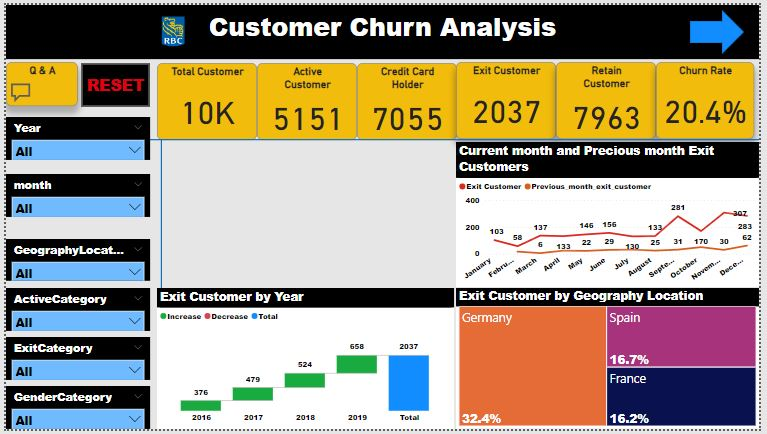

The dashboard page shown, as its layout file describes it:
{"tool":"powerbi","page":{"name":"KPI's","canvas":[1280,720],"ordinal":0},"visuals":[{"type":"card","title":"Total Customer","fields":{"Values":["Calculation.Total Customer"]},"box":[256.7,98.6,170,130.9],"z":0},{"type":"card","title":"Active Customer","fields":{"Values":["Calculation.Active Customer"]},"box":[426.7,98.6,170,130.9],"z":1000},{"type":"card","title":"Credit Card Holder","fields":{"Values":["Calculation.Credit Card Hoders"]},"box":[596.7,98.6,170,130.9],"z":2000},{"type":"card","title":"Exit Customer","fields":{"Values":["Calculation.Exit Customer"]},"box":[764.9,96.9,170,130.9],"z":3000},{"type":"card","title":"Retain Customer","fields":{"Values":["Calculation.Retain Customer"]},"box":[934.9,96.9,170,130.9],"z":4000},{"type":"card","title":"Churn Rate","fields":{"Values":["Calculation.Churn Rate"]},"box":[1104.9,96.9,166.6,130.9],"z":5000},{"type":"textbox","box":[0,0,1280,91.8],"z":6000},{"type":"image","box":[226.1,6.8,115.6,76.5],"z":7000},{"type":"shape","box":[0,207,1280,43.1],"z":8000},{"type":"shape","box":[256.7,230.2,14.9,490.1],"z":9000},{"type":"slicer","fields":{"Values":["Date_Table.Year"]},"box":[0,190.4,244.8,73.1],"z":10000},{"type":"slicer","fields":{"Values":["Date_Table.month"]},"box":[0,287.3,244.8,73.1],"z":11000},{"type":"slicer","fields":{"Values":["Geography.GeographyLocation"]},"box":[0,397.8,244.8,71.4],"z":12000},{"type":"slicer","fields":{"Values":["ActiveCustomer.ActiveCategory"]},"box":[0,481.1,244.8,73.1],"z":13000},{"type":"slicer","fields":{"Values":["ExitCustomer.ExitCategory"]},"box":[0,564.4,244.8,73.1],"z":14000},{"type":"slicer","fields":{"Values":["Gender.GenderCategory"]},"box":[0,647.6,244.8,73.1],"z":15000},{"type":"clusteredColumnChart","fields":{"Category":["Date_Table.Year","Date_Table.Month_name"],"Y":["Calculation.Active Customer","Calculation.Inactive Customer"]},"box":[256.7,232.9,503.2,243.1],"z":16000},{"type":"waterfallChart","fields":{"Y":["Calculation.Exit Customer"],"Category":["Date_Table.Date.Variation.Date Hierarchy.Year"]},"box":[256.7,481.1,504.9,239.7],"z":17000},{"type":"shape","box":[1162.7,8.5,91.8,74.8],"z":18000},{"type":"actionButton","title":"Q & A","box":[0,96.9,122.4,74.8],"z":19000},{"type":"actionButton","title":"RESET","box":[127.5,98.6,117.3,74.8],"z":20000},{"type":"treemap","title":"Exit Customer by Geography Location","fields":{"Values":["Calculation.Churn Rate"],"Group":["Geography.GeographyLocation"]},"box":[764.9,479.4,515.1,241.4],"z":21000},{"type":"lineChart","title":"Current month and Precious month Exit Customers","fields":{"Y":["Calculation.Exit Customer","Calculation.Previous_month_exit_customer"],"Category":["Date_Table.Date.Variation.Date Hierarchy.Month"]},"box":[764.9,232.9,515.1,248.2],"z":22000}]}

Visuals, with their boxes in screenshot pixels (x1, y1, x2, y2), scaled from the page's 1280x720 canvas onto the 767x434 screenshot:
"Total Customer" card: [left=154, top=59, right=256, bottom=138]
"Active Customer" card: [left=256, top=59, right=358, bottom=138]
"Credit Card Holder" card: [left=358, top=59, right=459, bottom=138]
"Exit Customer" card: [left=458, top=58, right=560, bottom=137]
"Retain Customer" card: [left=560, top=58, right=662, bottom=137]
"Churn Rate" card: [left=662, top=58, right=762, bottom=137]
textbox: [left=0, top=0, right=766, bottom=55]
image: [left=135, top=4, right=205, bottom=50]
shape: [left=0, top=125, right=766, bottom=151]
shape: [left=154, top=139, right=163, bottom=433]
slicer - Date_Table.Year: [left=0, top=115, right=147, bottom=159]
slicer - Date_Table.month: [left=0, top=173, right=147, bottom=217]
slicer - Geography.GeographyLocation: [left=0, top=240, right=147, bottom=283]
slicer - ActiveCustomer.ActiveCategory: [left=0, top=290, right=147, bottom=334]
slicer - ExitCustomer.ExitCategory: [left=0, top=340, right=147, bottom=384]
slicer - Gender.GenderCategory: [left=0, top=390, right=147, bottom=433]
clusteredColumnChart - Date_Table.Year x Date_Table.Month_name: [left=154, top=140, right=455, bottom=287]
waterfallChart - Calculation.Exit Customer x Date_Table.Date.Variation.Date Hierarchy.Year: [left=154, top=290, right=456, bottom=433]
shape: [left=697, top=5, right=752, bottom=50]
"Q & A" actionButton: [left=0, top=58, right=73, bottom=103]
"RESET" actionButton: [left=76, top=59, right=147, bottom=105]
"Exit Customer by Geography Location" treemap: [left=458, top=289, right=766, bottom=433]
"Current month and Precious month Exit Customers" lineChart: [left=458, top=140, right=766, bottom=290]
